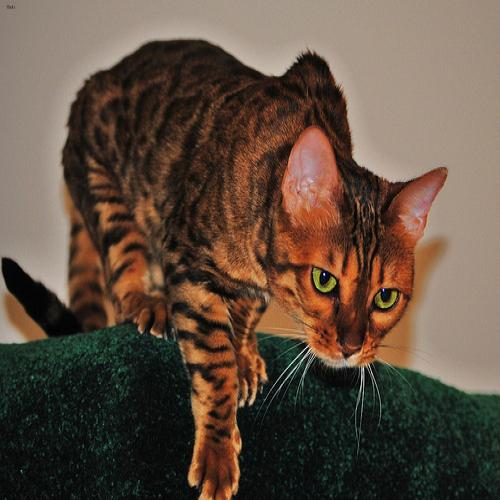bengal: (261, 121, 459, 375)
